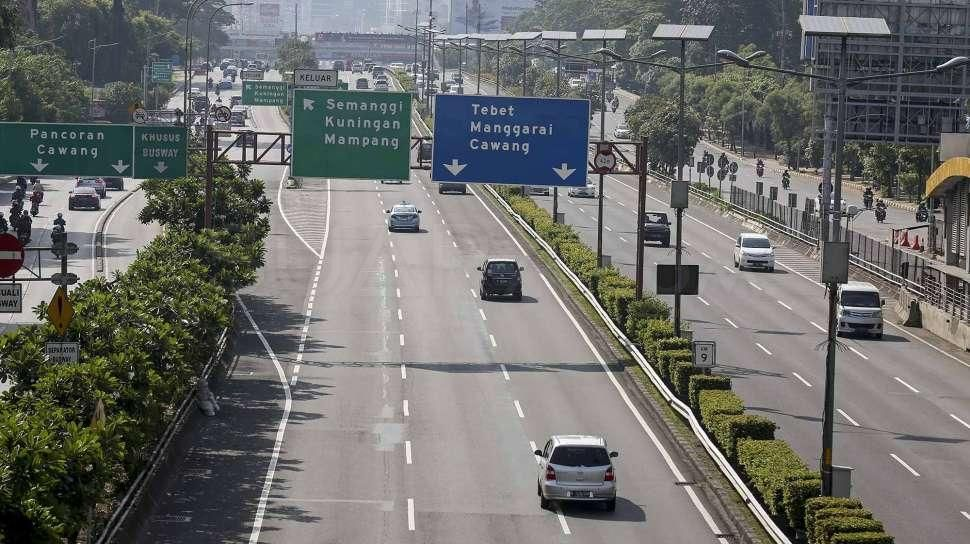car: (540, 432, 619, 515), (837, 280, 884, 339), (481, 258, 522, 305), (736, 234, 777, 276), (642, 212, 672, 246), (388, 205, 423, 232), (70, 186, 102, 212), (74, 178, 106, 199)
motorbike: (52, 216, 71, 257), (18, 211, 32, 244), (875, 198, 888, 223), (11, 202, 21, 233), (863, 186, 874, 211), (915, 201, 928, 222), (12, 186, 25, 206), (31, 191, 39, 218), (756, 158, 764, 179), (783, 171, 791, 189)
